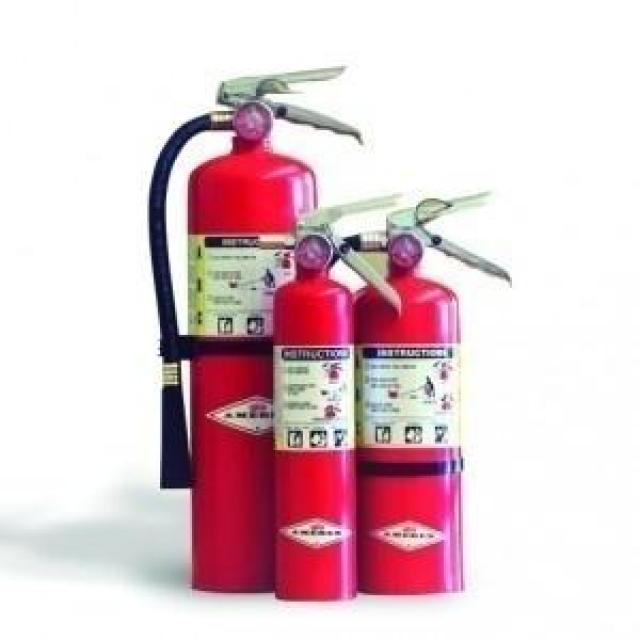fire_extinguisher: (138, 62, 364, 595), (296, 184, 515, 598), (250, 187, 410, 600)
